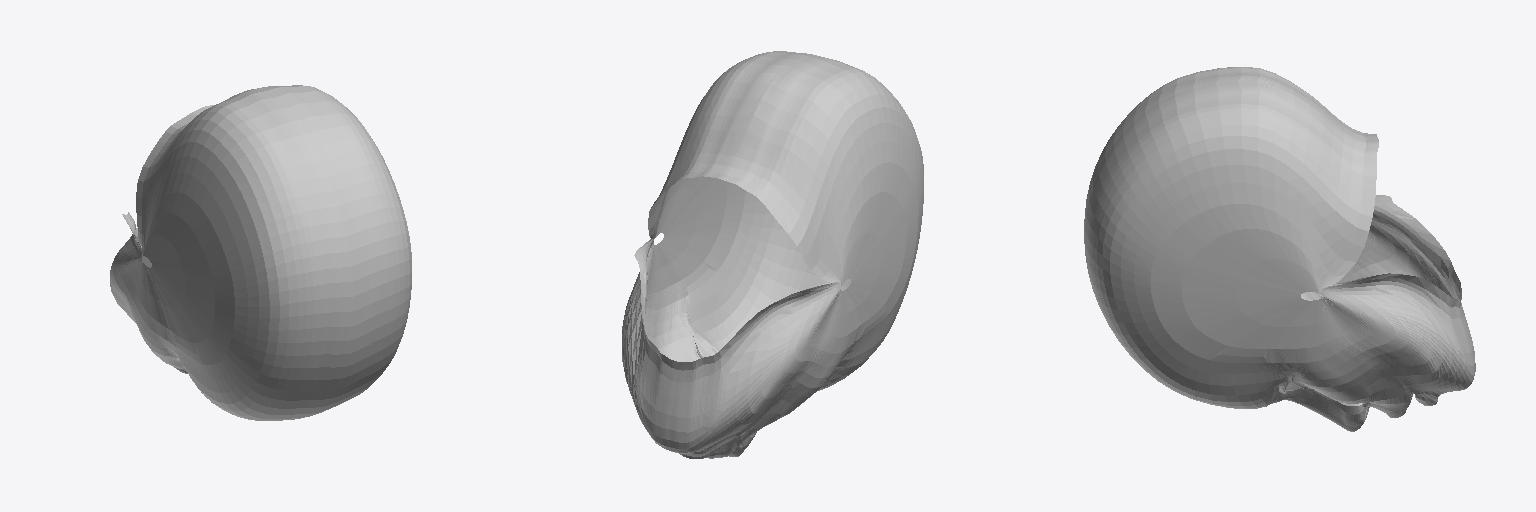
Rendered from head.obj.
3 views of the same model, side by side, from view 1: azimuth 30°, elevation 25°; view 2: azimuth 150°, elevation 25°; view 3: azimuth 270°, elevation 25° (orthographic).
Parts seen in each view (by area): view 1: head_chord; view 2: head_chord; view 3: head_chord.
Boxes of the visible parts, box(x1,y1,x2,y2) form: head_chord: box(110, 85, 411, 420); head_chord: box(622, 51, 923, 458); head_chord: box(1084, 67, 1475, 431).
Bounding box in the file's own units: 2.63 × 4.68 × 4.76.